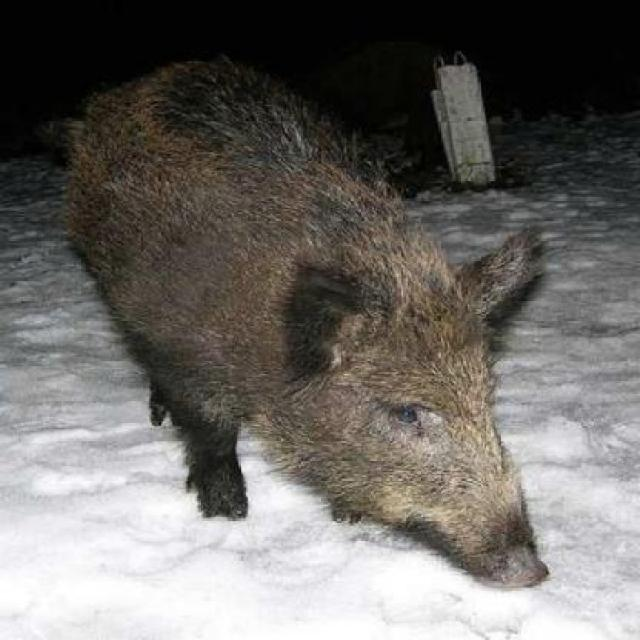Boar: (13, 42, 589, 606)
